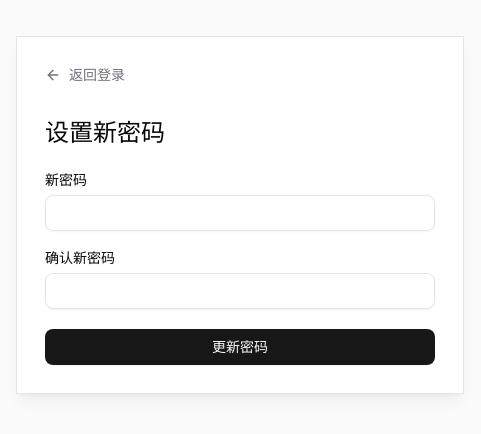
Test case: password recovery pages › validates confirmation and completes a one-time reset
The width and height of the screenshot is (481, 434).
Type "new secure password" into the password field labelled "新密码" at [240, 213], box 45,195 -> 435,231
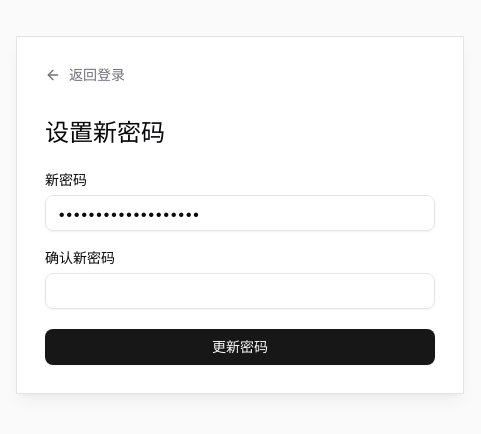
Type "different password" into the password field labelled "确认新密码" at [240, 291], box 45,273 -> 435,309
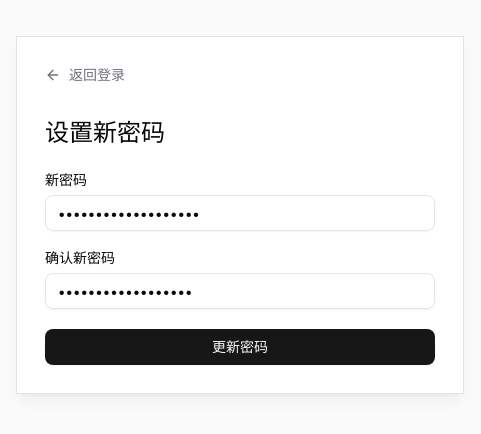
Click the button "更新密码" at [240, 347], box 45,329 -> 435,365
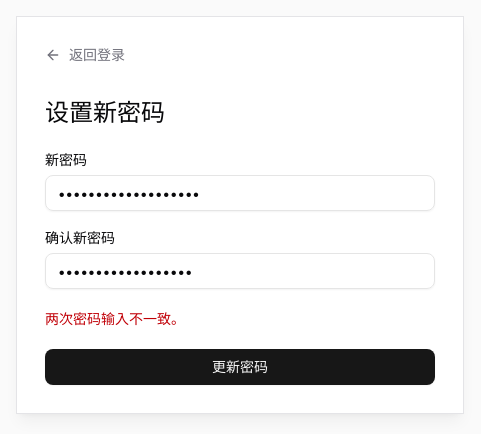
Check: the message shows "两次密码输入不一致", box 45,310 -> 185,327
Type "new secure password" into the password field labelled "确认新密码" at [240, 271], box 45,253 -> 435,289
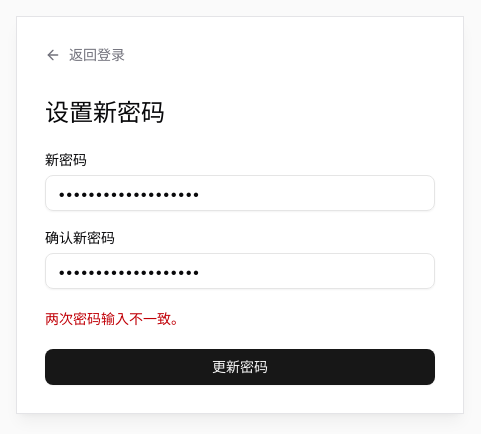
Click the button "更新密码" at [240, 367], box 45,349 -> 435,385
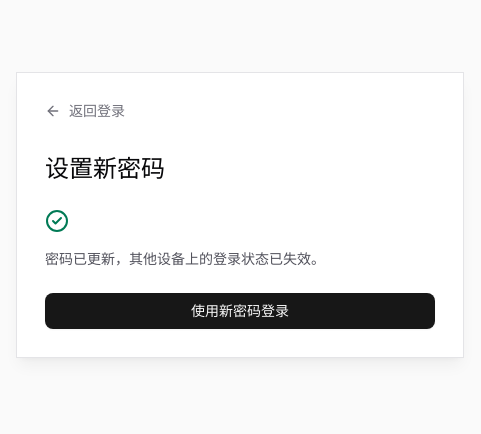
Check: the text "密码已更新，其他设备上的登录状态已失效。" is shown, box 45,250 -> 325,267
